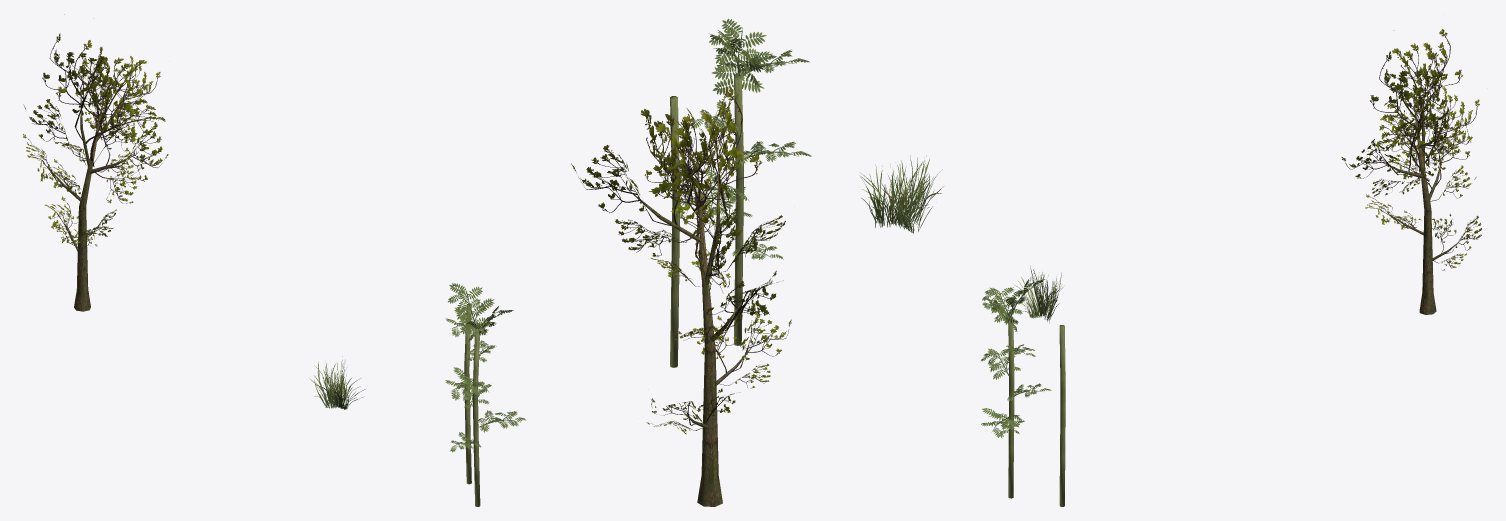
Rendered from arbolesA.obj.
3 views of the same model, side by side, from view 1: azimuth 30°, elevation 25°; view 2: azimuth 150°, elevation 25°; view 3: azimuth 270°, elevation 25° (orthographic). The views are drawn at different scales.
Visible parts, largest first — view 1: Rama_001-material.003, Hojas-material, Medium_bush_3_phong3_0.002; view 2: Rama_001-material.003, Hojas-material, Medium_bush_3_phong3_0.002; view 3: Rama_001-material.003, Hojas-material, Medium_bush_3_phong3_0.002.
Boxes of the visible parts, x1=… form: Rama_001-material.003: x1=23, y1=14, x2=168, y2=311; Hojas-material: x1=445, y1=283, x2=526, y2=506; Medium_bush_3_phong3_0.002: x1=310, y1=356, x2=365, y2=409; Rama_001-material.003: x1=571, y1=63, x2=791, y2=506; Hojas-material: x1=670, y1=18, x2=811, y2=367; Medium_bush_3_phong3_0.002: x1=859, y1=155, x2=943, y2=233; Rama_001-material.003: x1=1341, y1=29, x2=1481, y2=314; Hojas-material: x1=981, y1=279, x2=1065, y2=506; Medium_bush_3_phong3_0.002: x1=1013, y1=266, x2=1064, y2=323.
Size of the model in its own units: 38.02 by 47.73 by 57.65.
5 materials, 5 textured.
